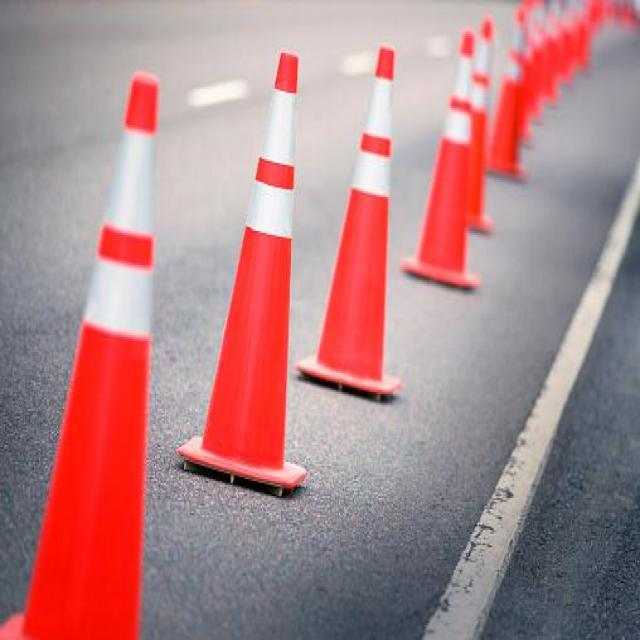Cone: (24, 70, 141, 640), (179, 49, 314, 490), (297, 44, 401, 402), (407, 28, 482, 288), (486, 2, 523, 184)
